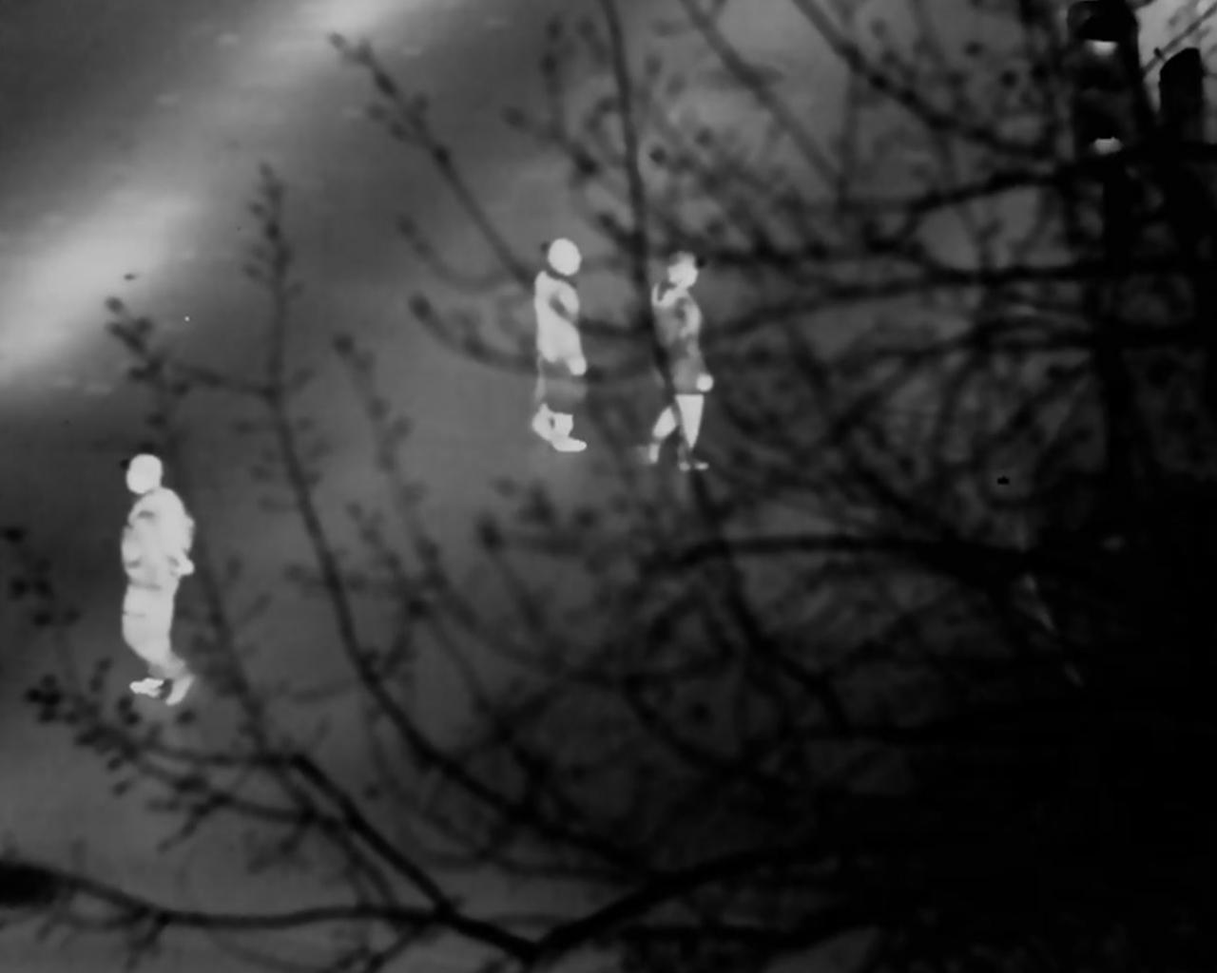person: (106, 450, 193, 689), (655, 257, 722, 479), (529, 231, 586, 467)
